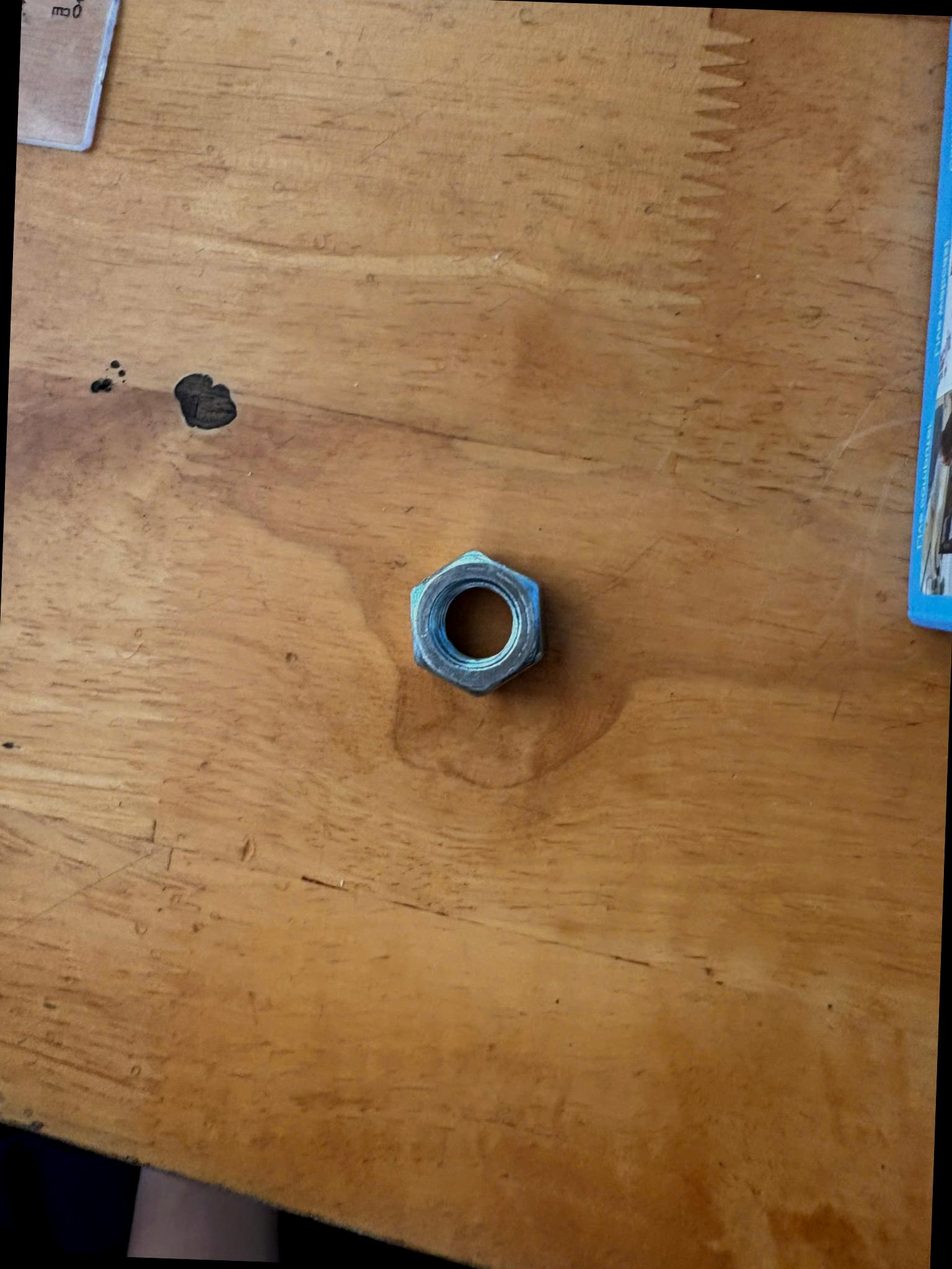nut: (386, 523, 559, 715)
